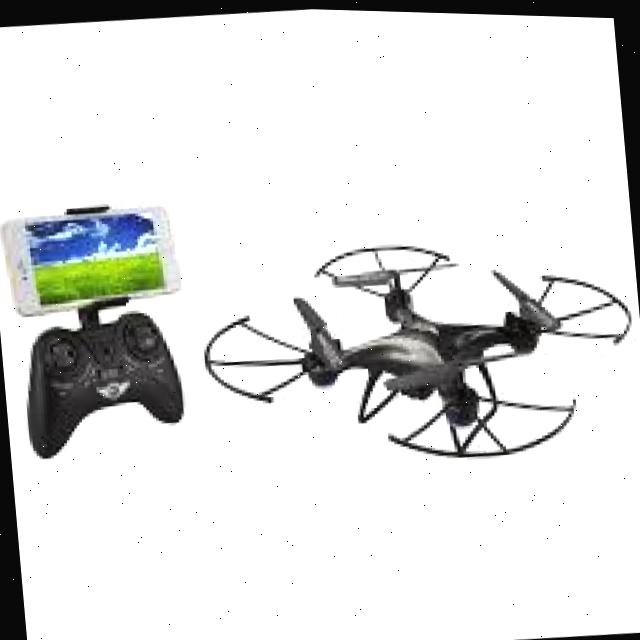drone: (188, 198, 640, 508)
